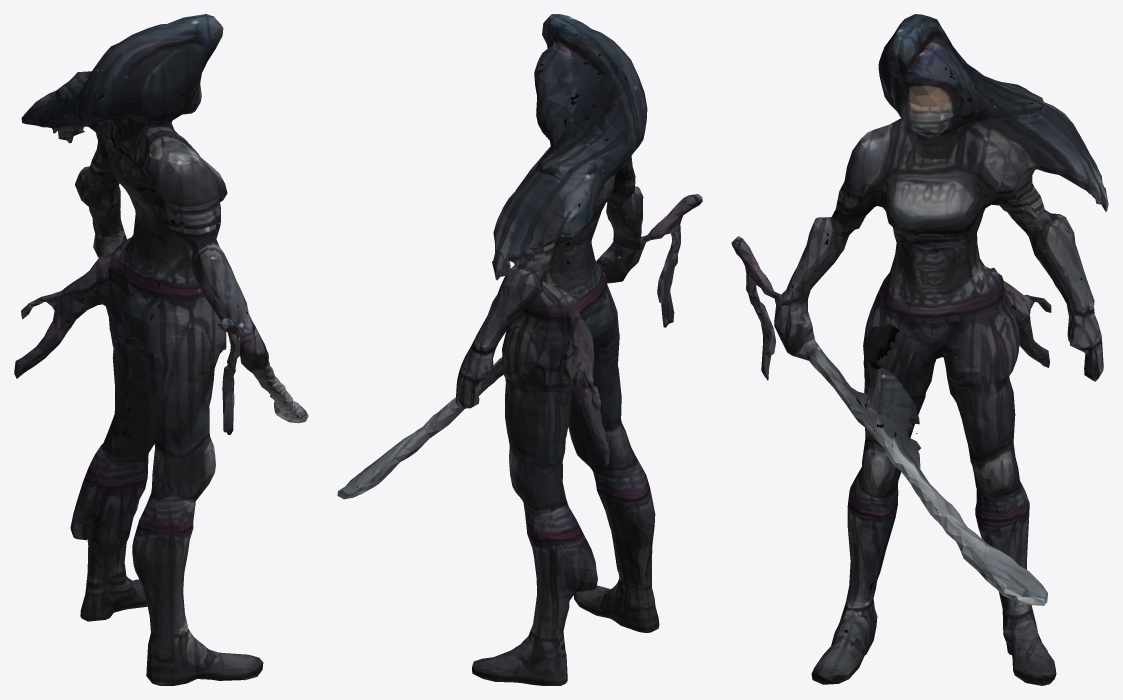
File: monster_ninja_2.glb
The picture shows the model from 3 angles, left to right: view 1: azimuth 30°, elevation 25°; view 2: azimuth 150°, elevation 25°; view 3: azimuth 270°, elevation 25°; orthographic projection. The views are drawn at different scales.
Visible parts, largest first — view 1: zzzz10; view 2: zzzz10; view 3: zzzz10.
Part boxes in pixels (bbox=[...]): zzzz10: bbox=[14, 14, 308, 685]; zzzz10: bbox=[337, 14, 702, 685]; zzzz10: bbox=[731, 14, 1108, 685].
Bounding box in the file's own units: 1.05 × 2.29 × 1.21.
Materials: 1 (1 with a texture image).
